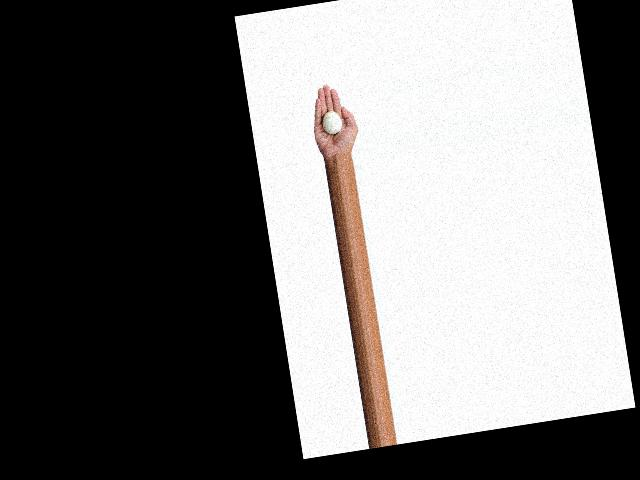egg: (321, 108, 342, 135)
